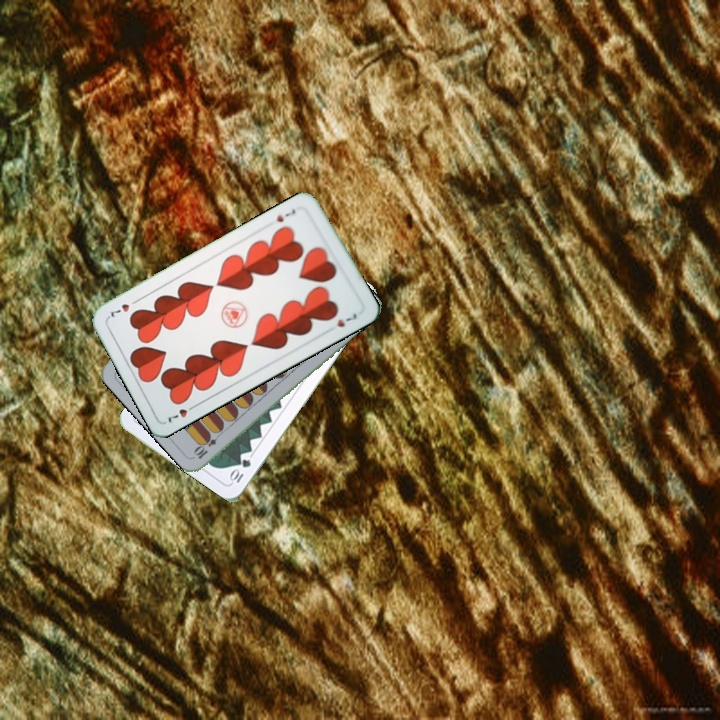E10: (190, 427, 224, 461)
G10: (226, 455, 254, 485)
H7: (164, 400, 200, 425), (272, 205, 298, 225)
